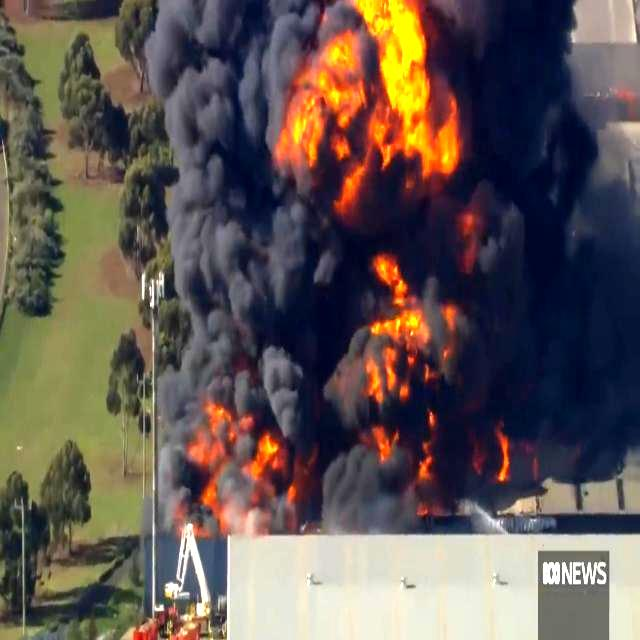fire: (273, 0, 455, 188), (358, 245, 458, 485), (185, 397, 318, 531), (496, 428, 509, 484)
